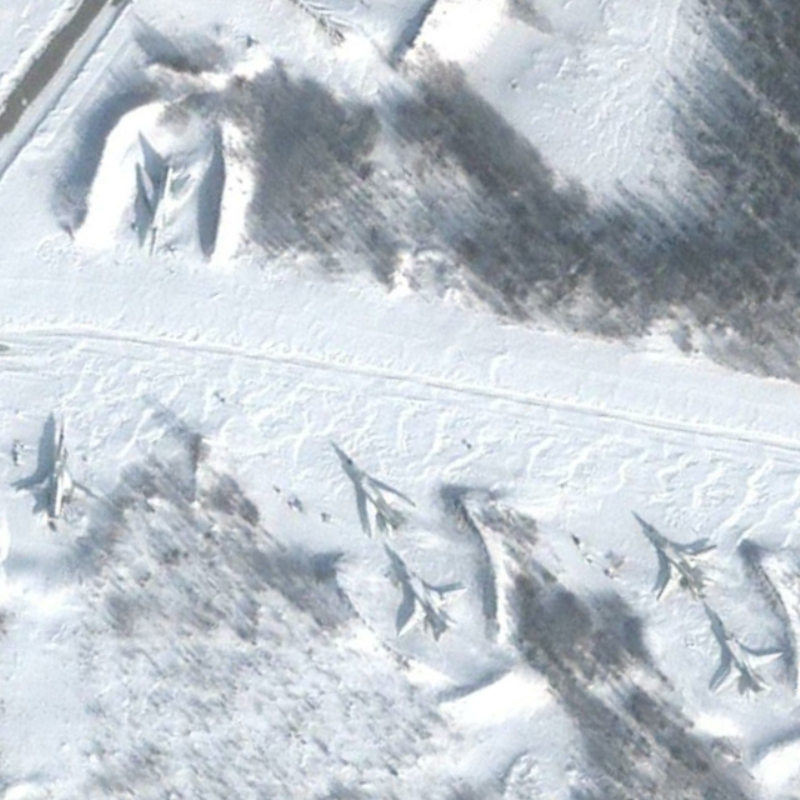A12: (12, 414, 105, 530), (387, 546, 471, 644), (335, 448, 418, 544), (704, 607, 788, 698), (636, 516, 720, 606), (130, 158, 201, 262)
